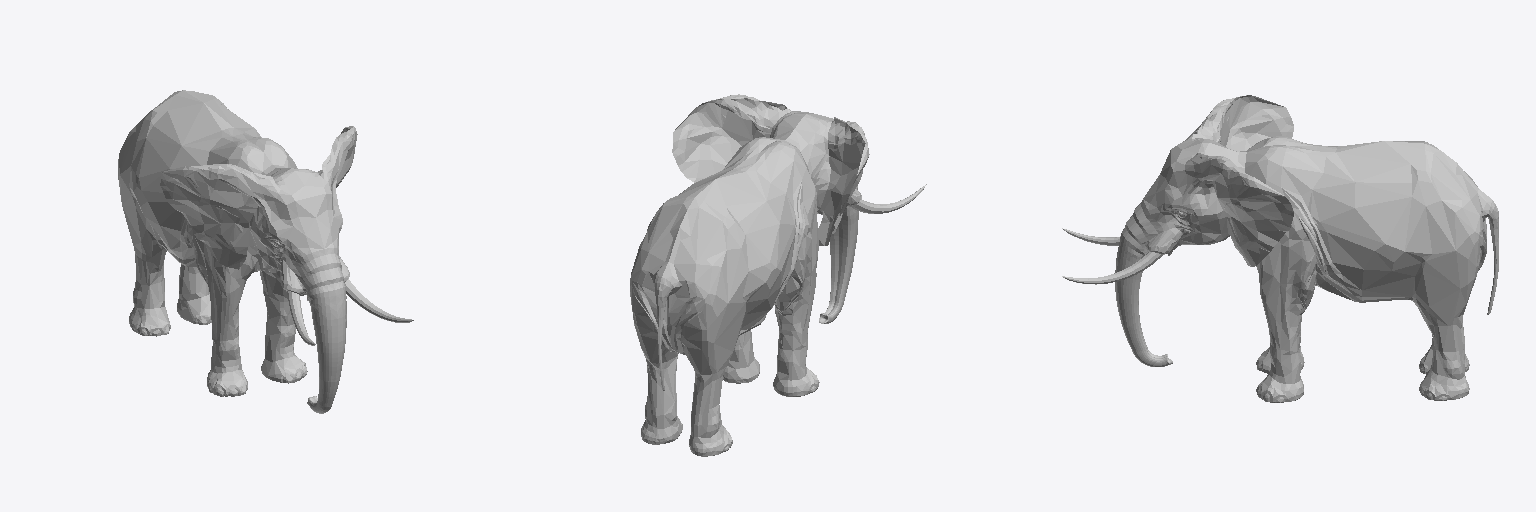
Rendered from elephant.obj.
The picture shows the model from 3 angles: view 1: azimuth 30°, elevation 25°; view 2: azimuth 150°, elevation 25°; view 3: azimuth 270°, elevation 25°; orthographic projection.
Bounding box in the file's own units: 2.73 × 3.57 × 5.65.